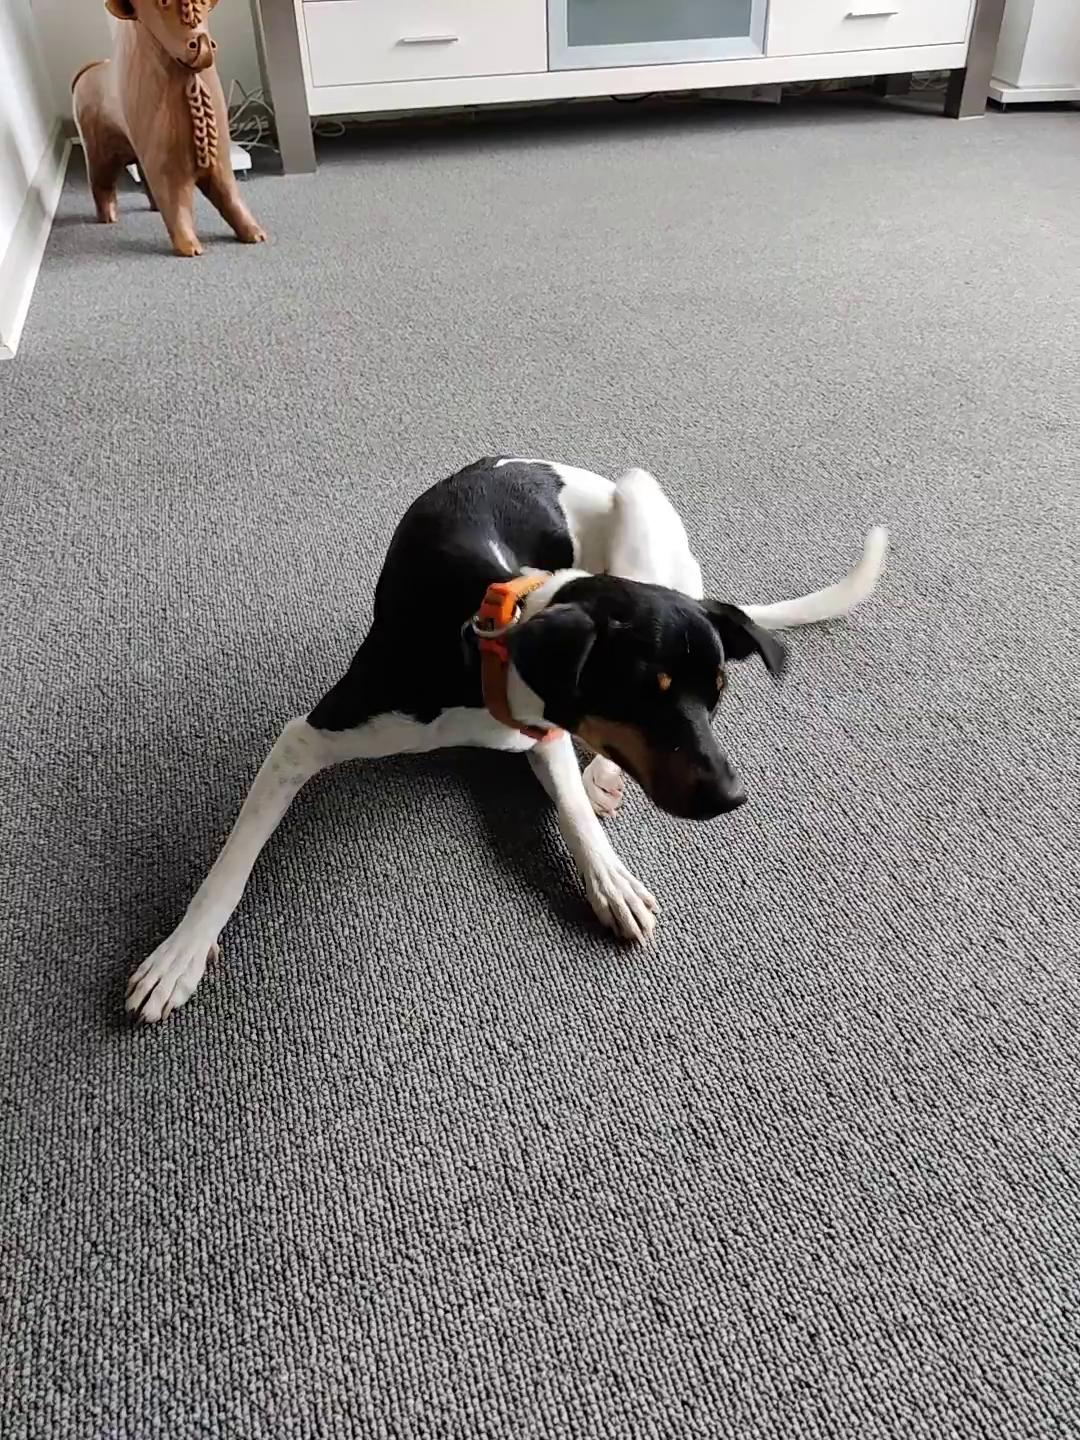Dog: (119, 444, 898, 1025)
